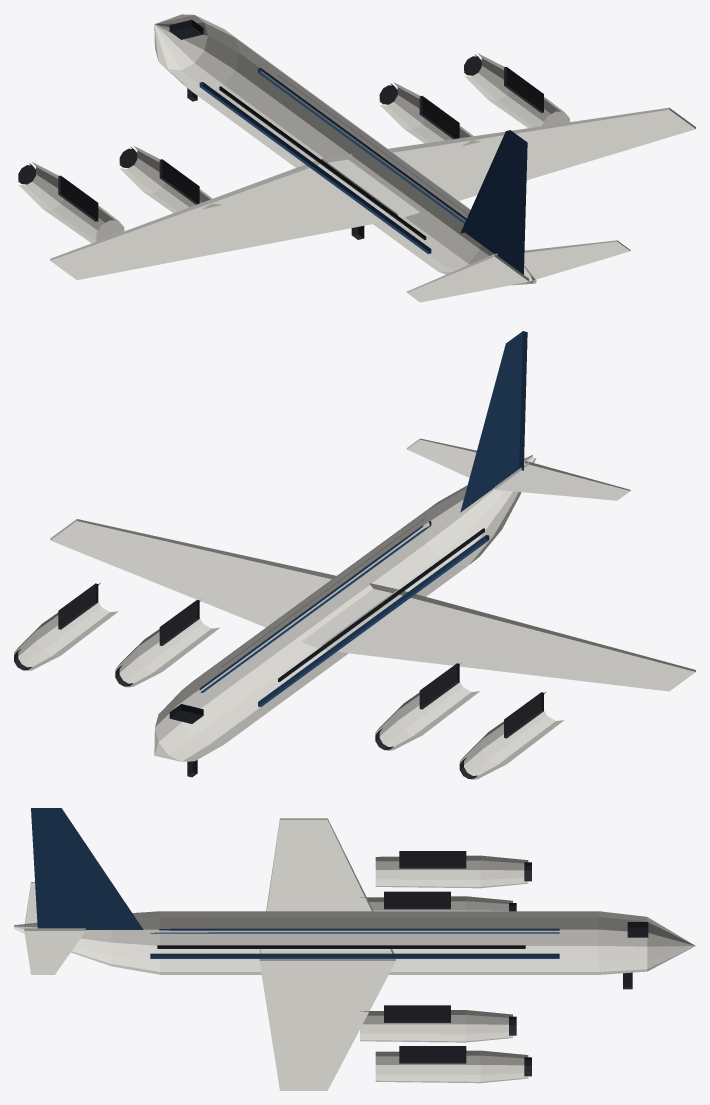
Rendered from widebody.glb.
3 renders of one model, top to bottom at view 1: azimuth 30°, elevation 25°; view 2: azimuth 150°, elevation 25°; view 3: azimuth 270°, elevation 25°, orthographic. The views are drawn at different scales.
Bounding box in the file's own units: 62 × 19.11 × 66.
